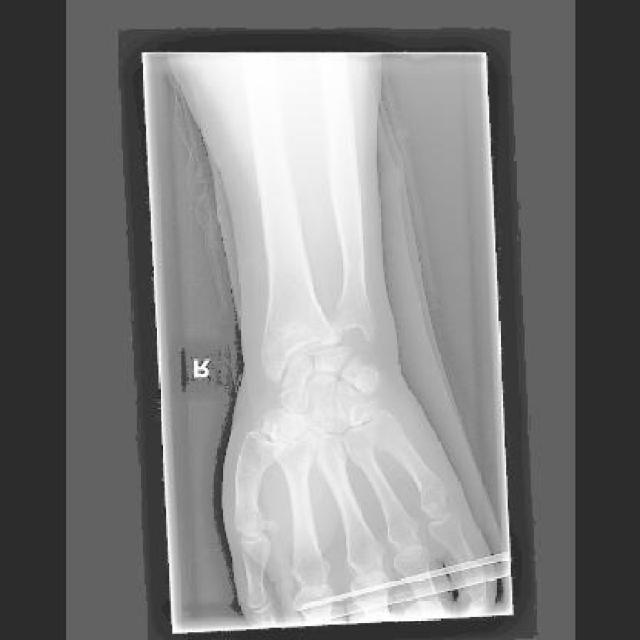Fracture: (257, 326, 316, 371)
